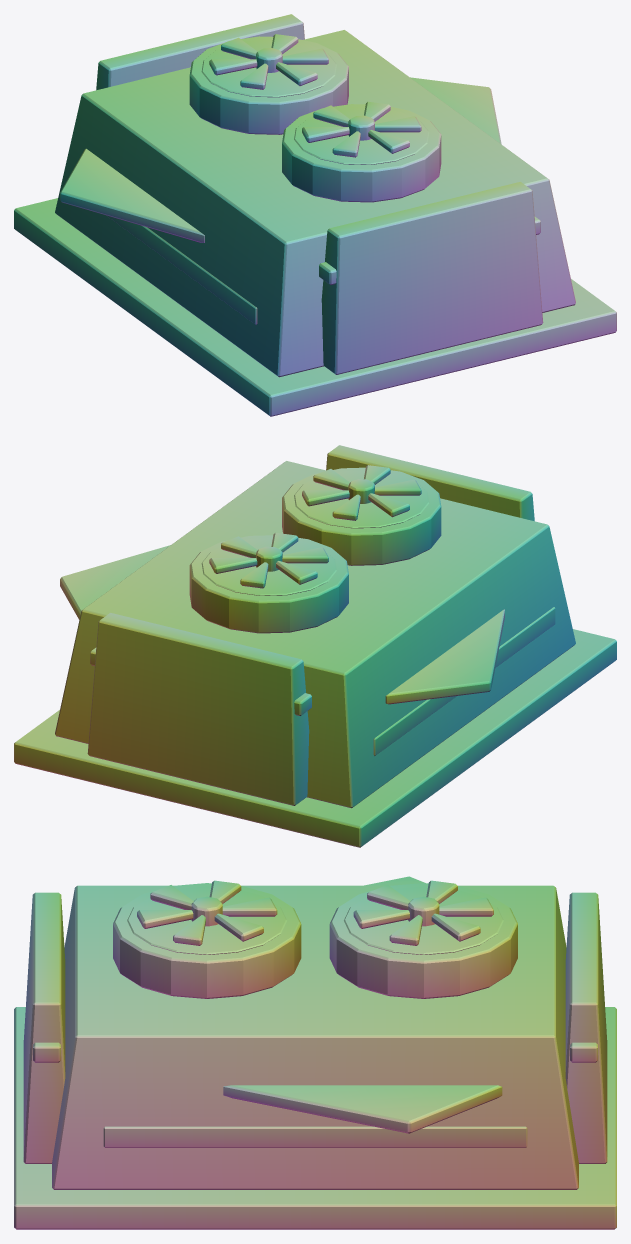
The model's file is module_speed_rig.glb.
The picture shows the model from 3 angles, top to bottom: view 1: azimuth 30°, elevation 25°; view 2: azimuth 150°, elevation 25°; view 3: azimuth 270°, elevation 25°; orthographic projection. The views are drawn at different scales.
Parts seen in each view (by area): view 1: body, spin_fan0, spin_fan1; view 2: body, spin_fan1, spin_fan0; view 3: body, spin_fan0, spin_fan1.
Boxes of the visible parts, x1,y1,x2,y2 form: body: (14, 14, 616, 416); spin_fan0: (209, 34, 328, 89); spin_fan1: (302, 101, 421, 157); body: (14, 445, 616, 847); spin_fan1: (302, 465, 421, 520); spin_fan0: (209, 532, 328, 588); body: (14, 876, 616, 1229); spin_fan0: (353, 880, 493, 945); spin_fan1: (137, 880, 277, 945).
Size of the model in its own units: 12.36 by 5.35 by 12.8.
